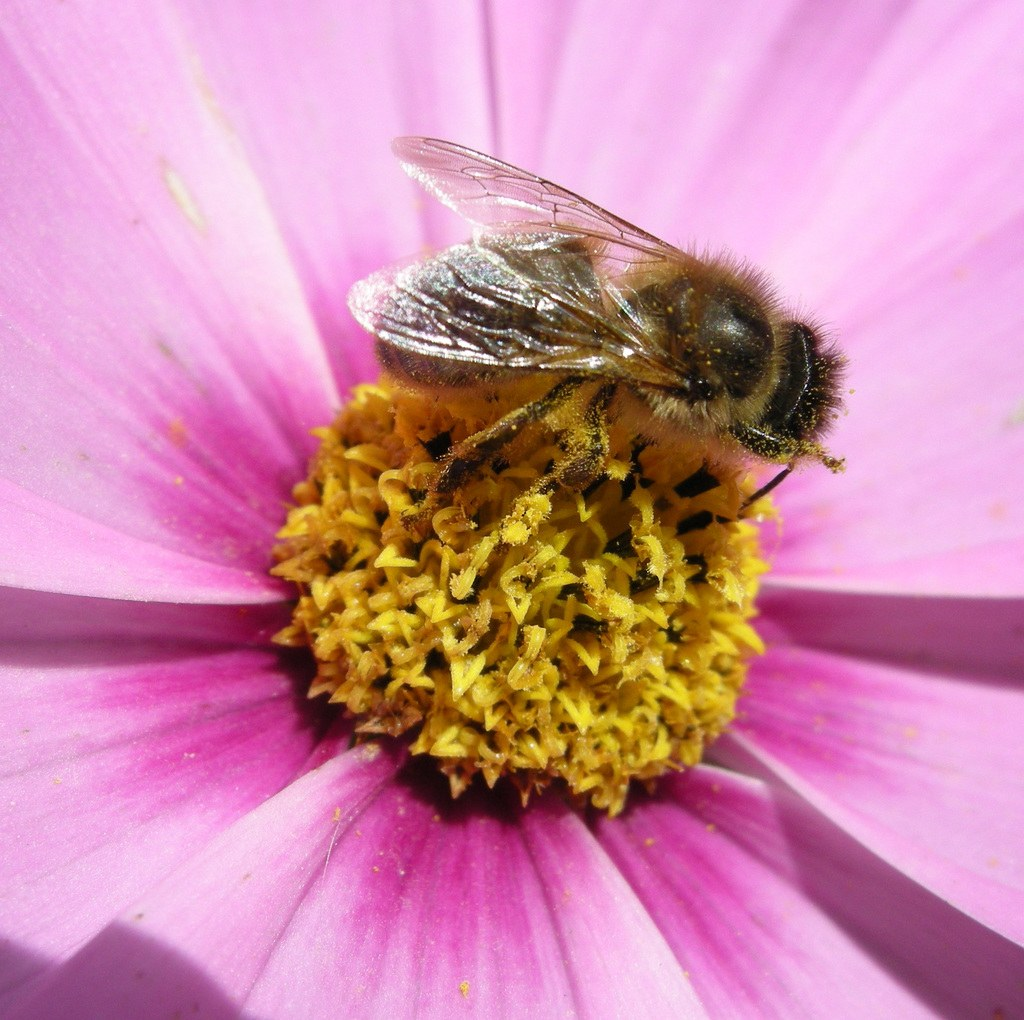bee: (346, 129, 843, 523)
